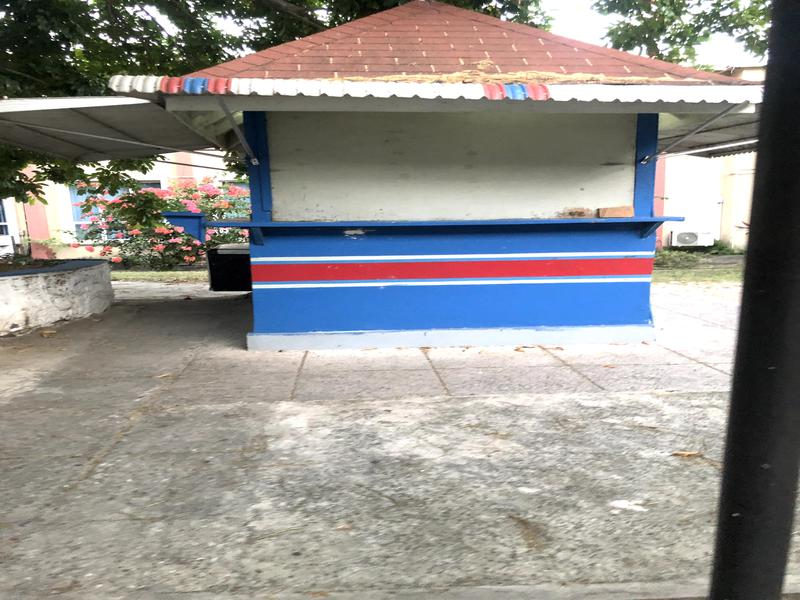18.0050609_-76.7496662_auntyjackie: (158, 3, 701, 382)
